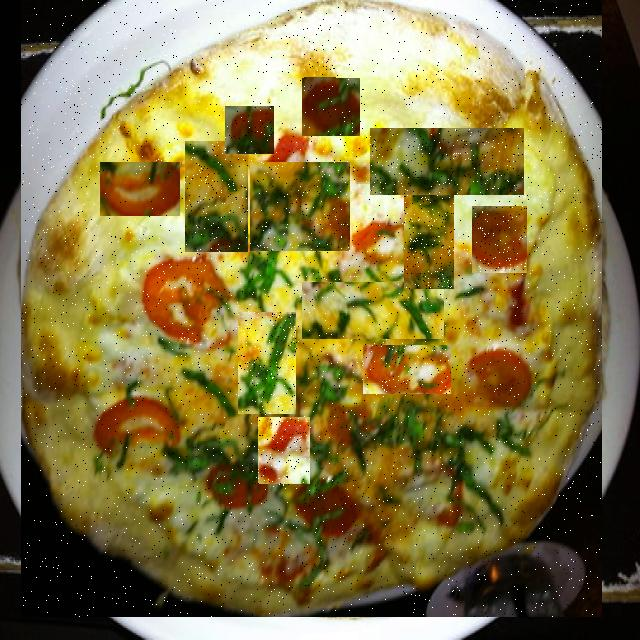Pizza: (22, 0, 602, 617)
Rucola: (370, 128, 524, 195), (250, 162, 350, 251), (302, 282, 444, 339), (185, 141, 248, 252), (238, 312, 296, 414), (404, 195, 454, 289), (226, 106, 276, 154), (304, 24, 336, 80)
Tomato: (142, 277, 225, 357), (100, 162, 180, 216), (363, 345, 451, 394), (472, 206, 527, 273), (258, 418, 310, 486), (302, 78, 360, 136)
